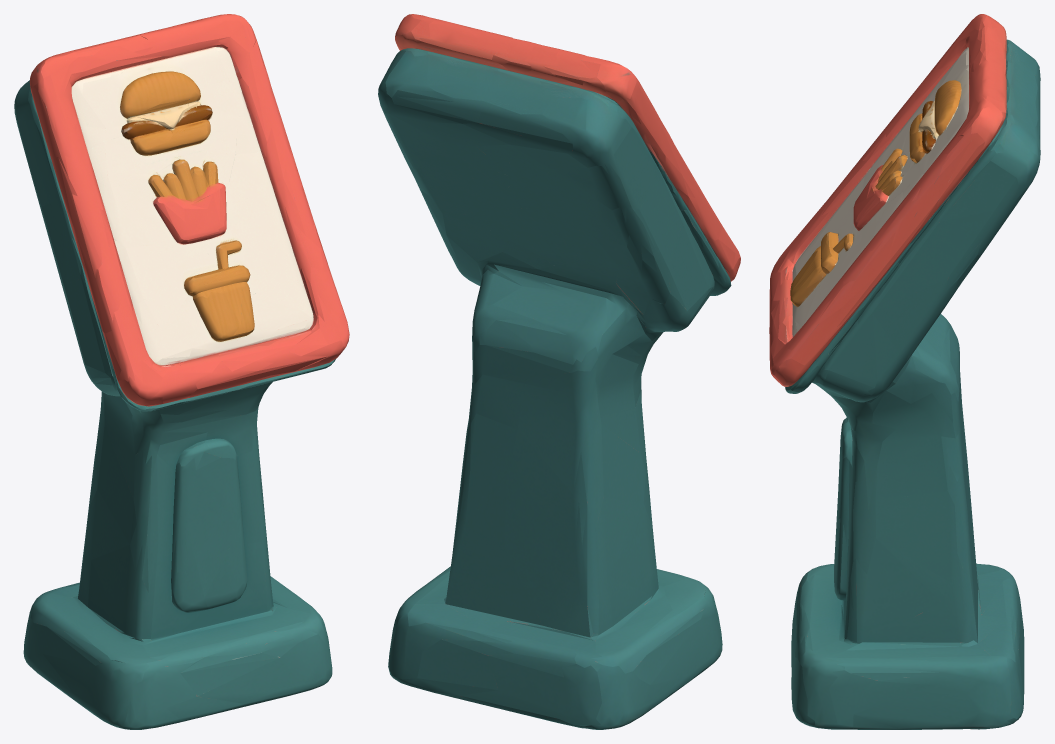
The model's file is restaurant-menu-lectern.glb.
3 views of the same model, side by side, from view 1: azimuth 30°, elevation 25°; view 2: azimuth 150°, elevation 25°; view 3: azimuth 270°, elevation 25° (orthographic). The views are drawn at different scales.
Parts seen in each view (by area): view 1: Mesh_0; view 2: Mesh_0; view 3: Mesh_0.
Part boxes in pixels (x1=…): Mesh_0: x1=14, y1=14, x2=349, y2=729; Mesh_0: x1=378, y1=14, x2=740, y2=729; Mesh_0: x1=769, y1=14, x2=1040, y2=729.
Bounding box in the file's own units: 0.4667 × 1.2 × 0.4776.
Materials: 1 (1 with a texture image).
